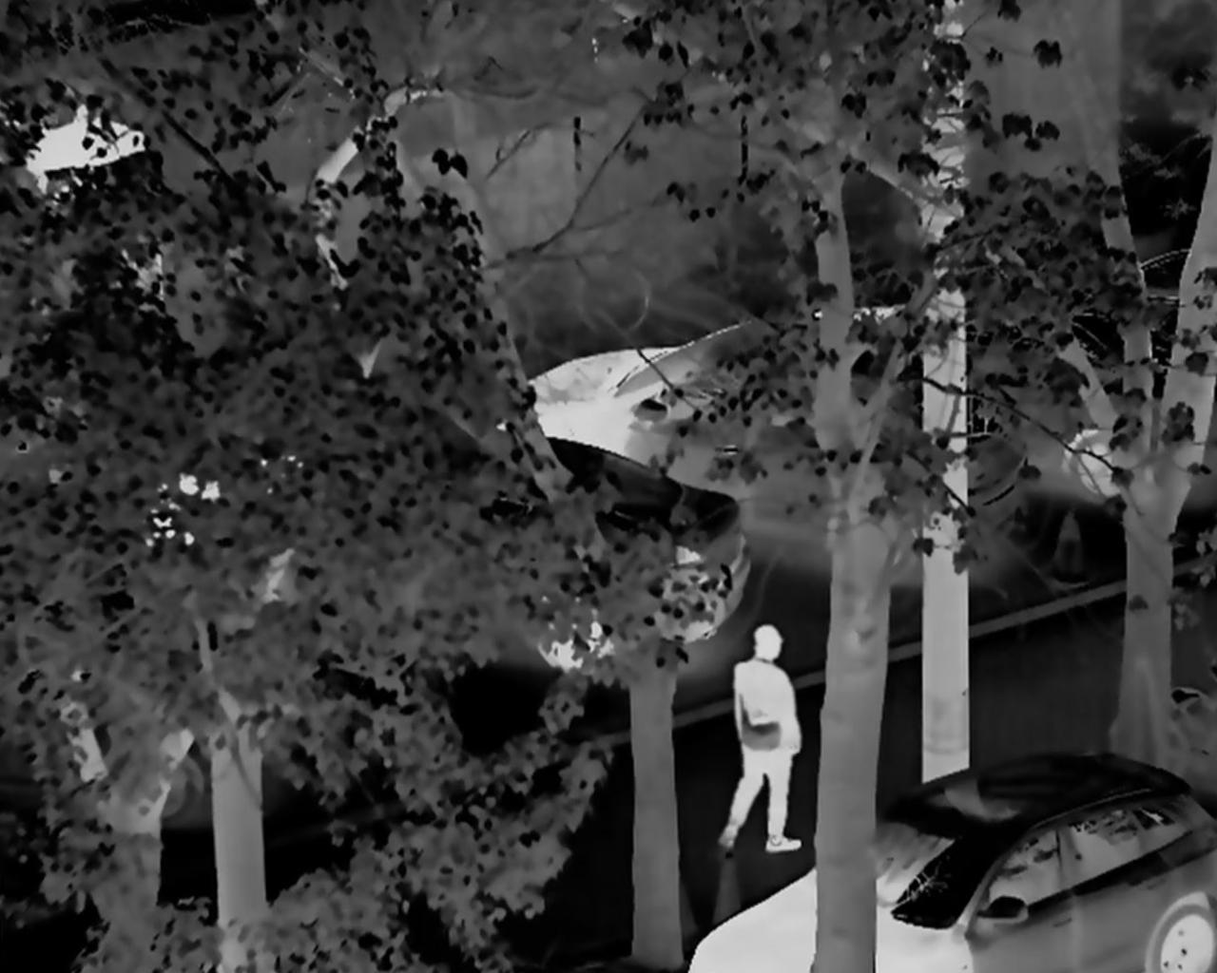person: (703, 620, 812, 856)
